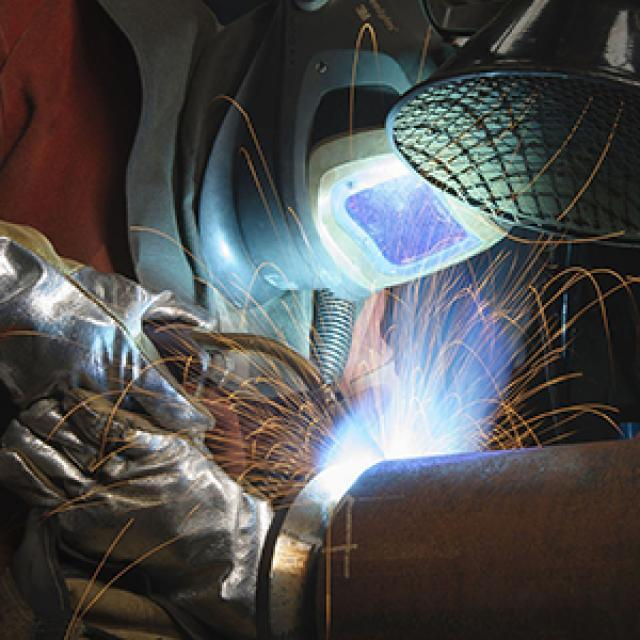with_helmet: (177, 0, 499, 308)
